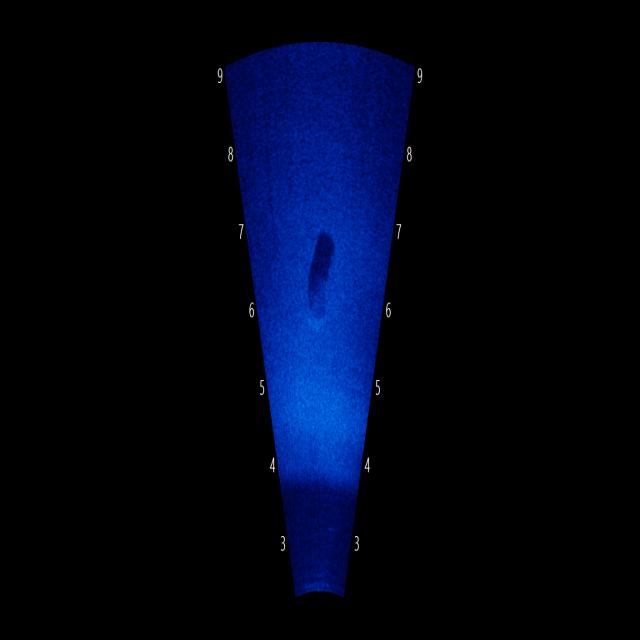square: (295, 210, 356, 326)
